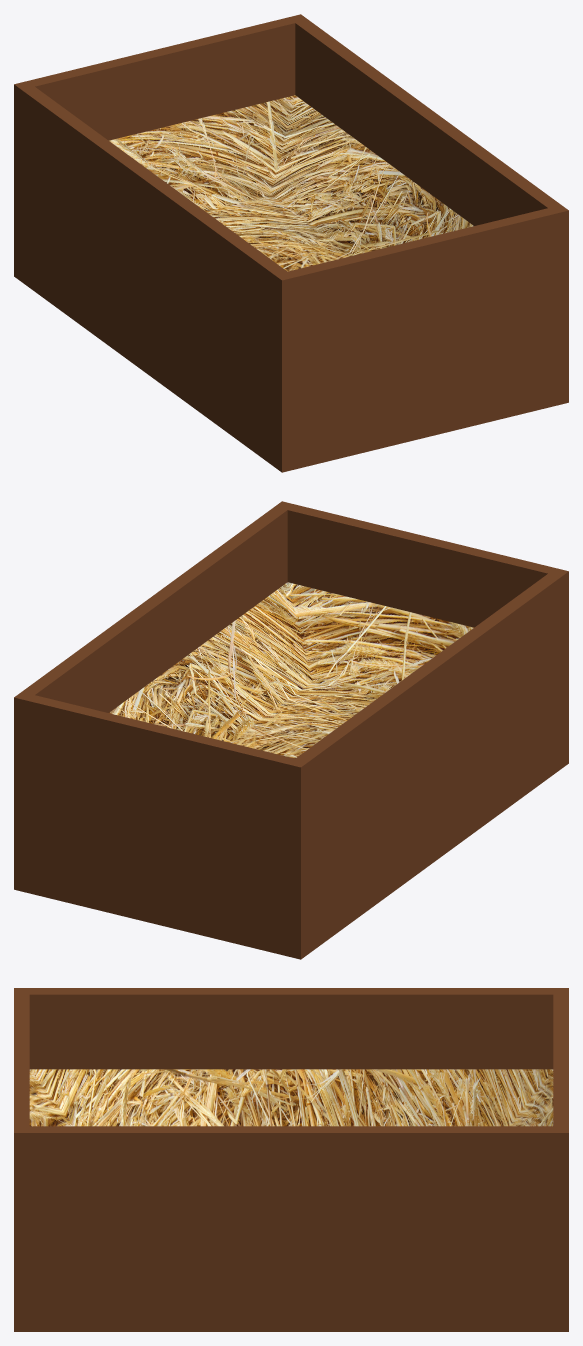
The model's file is emptyBox.fbx.
3 views of the same model, one above another, from view 1: azimuth 30°, elevation 25°; view 2: azimuth 150°, elevation 25°; view 3: azimuth 270°, elevation 25° (orthographic). The views are drawn at different scales.
Visible parts, largest first — view 1: Group1; view 2: Group1; view 3: Group1.
Part boxes in pixels (bbox=[...]): Group1: bbox=[14, 14, 568, 472]; Group1: bbox=[14, 501, 568, 959]; Group1: bbox=[14, 988, 568, 1331].
Size of the model in its own units: 0.25 by 0.16 by 0.4045.
